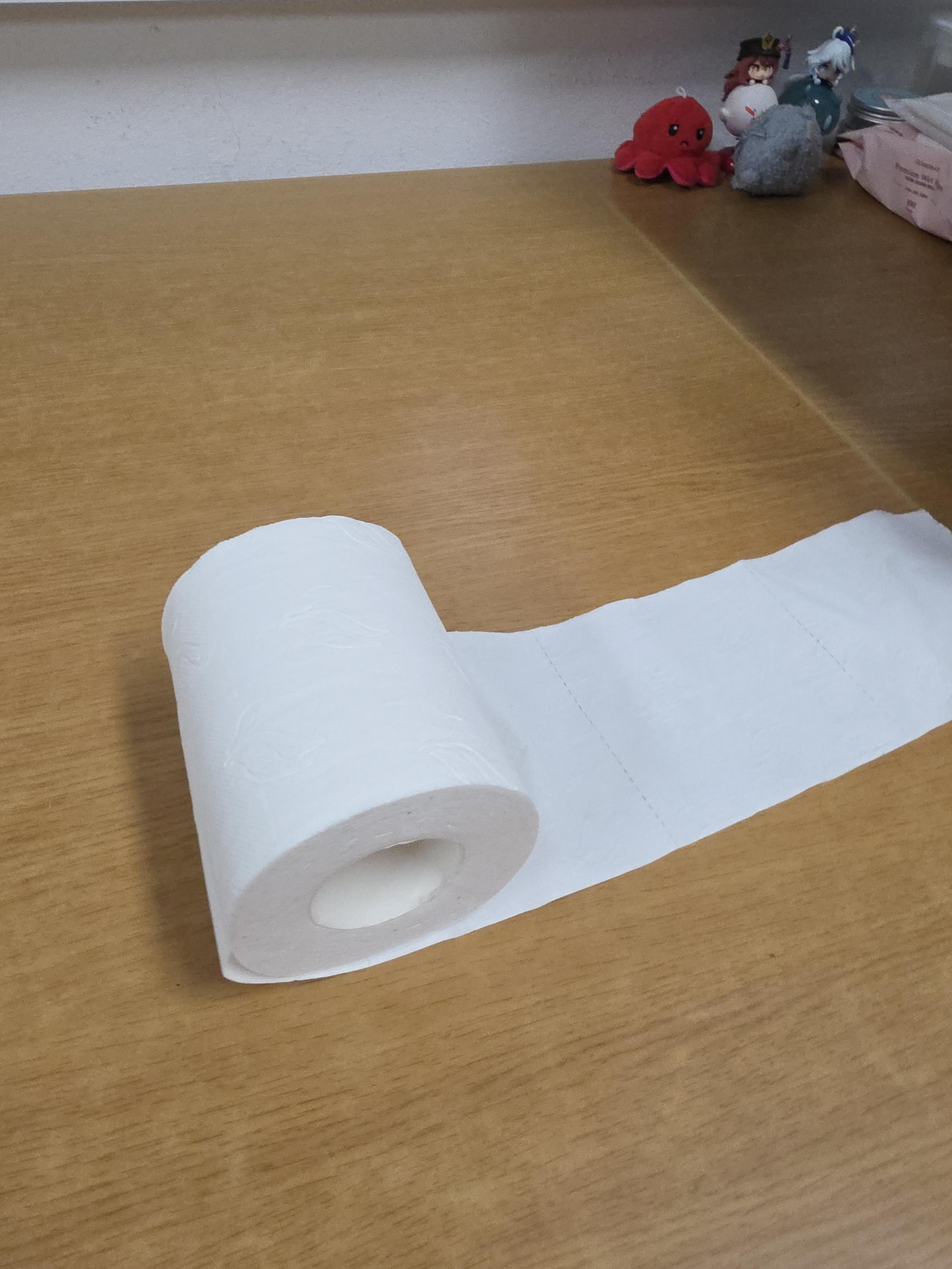tissue: (161, 508, 951, 985)
